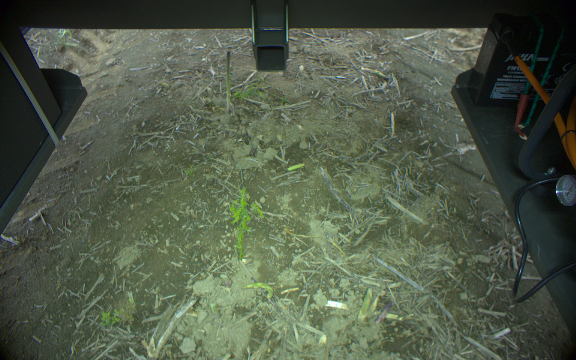aspa: (223, 50, 233, 113), (243, 280, 274, 300), (354, 287, 371, 320), (375, 301, 393, 324)
